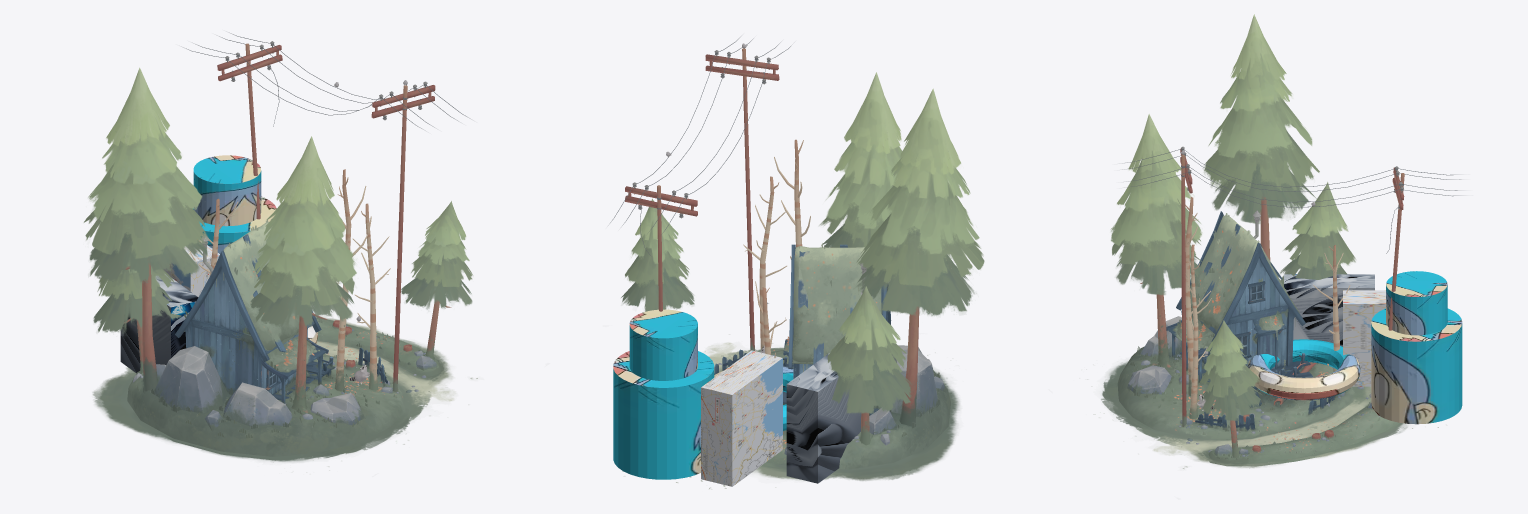
3 views of the same model, side by side, from view 1: azimuth 30°, elevation 25°; view 2: azimuth 150°, elevation 25°; view 3: azimuth 270°, elevation 25° (orthographic). The views are drawn at different scales.
Visible parts, largest first — view 1: RedwoodAlpha, Ground, Rocks, House, GroundPlane, Powerlines, cube2, Cylinder.001, RoofMoss, Redwood, BTree.002, BTree.001 (+3 smaller); view 2: RedwoodAlpha, cube2, Cylinder, RoofMoss, Powerlines, Cylinder.001, Ground, GroundPlane, Rocks, Redwood, BTree.002, House (+3 smaller); view 3: RedwoodAlpha, Ground, Cylinder, cube2, GroundPlane, House, Torus, RoofMoss, Cylinder.001, Powerlines, Rocks, Redwood (+6 smaller).
Boxes of the visible parts, x1,y1,x2,y2 form: RedwoodAlpha: [83, 67, 473, 335]; Ground: [127, 318, 440, 460]; Rocks: [154, 346, 437, 431]; House: [175, 250, 321, 394]; GroundPlane: [92, 318, 477, 470]; Powerlines: [217, 41, 435, 391]; cube2: [120, 240, 219, 373]; Cylinder.001: [193, 155, 261, 226]; RoofMoss: [223, 222, 299, 349]; Redwood: [124, 263, 451, 413]; BTree.002: [352, 203, 390, 390]; BTree.001: [335, 169, 367, 391]; RedwoodAlpha: [621, 72, 984, 413]; cube2: [701, 350, 861, 486]; Cylinder: [613, 351, 714, 479]; RoofMoss: [792, 246, 881, 362]; Powerlines: [625, 48, 779, 350]; Cylinder.001: [629, 309, 697, 380]; Ground: [766, 350, 950, 469]; GroundPlane: [622, 334, 959, 489]; Rocks: [784, 345, 945, 454]; Redwood: [860, 306, 927, 445]; BTree.002: [743, 176, 786, 352]; House: [788, 244, 891, 407]; RedwoodAlpha: [1110, 14, 1355, 420]; Ground: [1117, 346, 1397, 466]; Cylinder: [1371, 308, 1462, 424]; cube2: [1284, 274, 1385, 386]; GroundPlane: [1087, 361, 1438, 468]; House: [1176, 211, 1305, 369]; Torus: [1247, 339, 1360, 400]; RoofMoss: [1190, 215, 1299, 328]; Cylinder.001: [1386, 271, 1447, 335]; Powerlines: [1180, 146, 1404, 426]; Rocks: [1127, 316, 1371, 456]; Redwood: [1140, 197, 1270, 457].
Size of the model in its own units: 10.34 by 7.89 by 10.8.
Materials: 16 (16 with a texture image).
